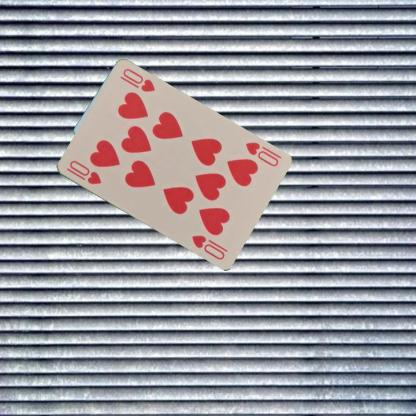10h: (242, 139, 280, 168), (66, 157, 102, 186)
